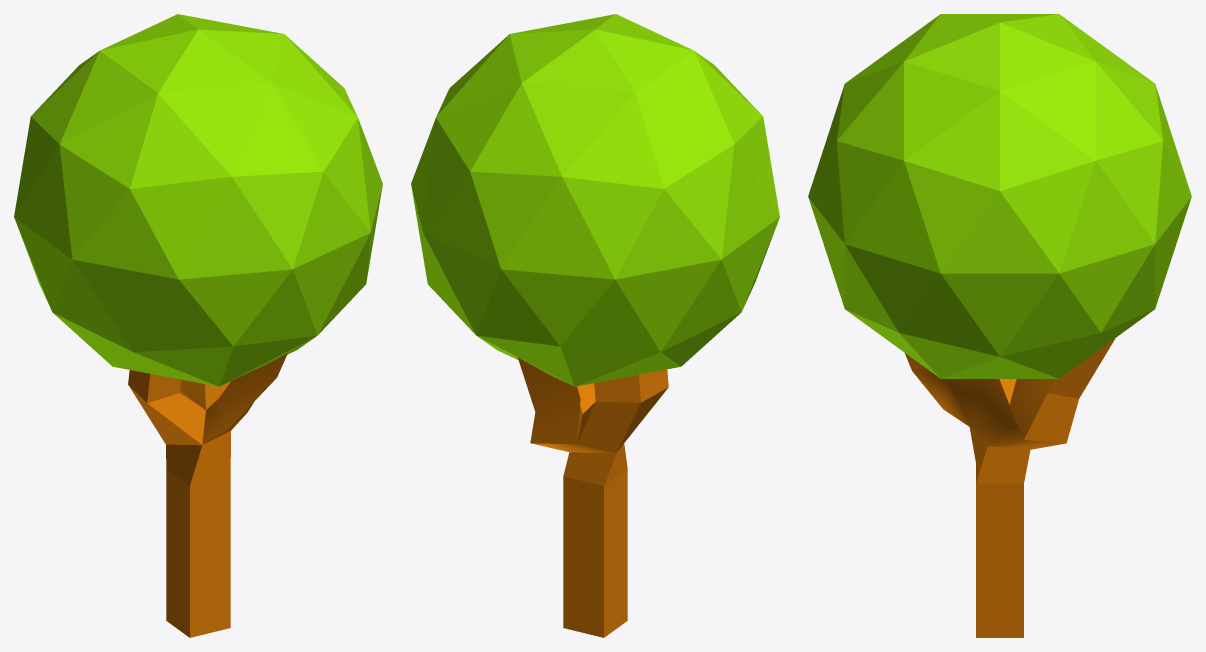
File: tree_lowPoly.fbx
3 renders of one model, left to right at view 1: azimuth 30°, elevation 25°; view 2: azimuth 150°, elevation 25°; view 3: azimuth 270°, elevation 25°, orthographic.
Parts seen in each view (by area): view 1: Icosphere, Cube; view 2: Icosphere, Cube; view 3: Icosphere, Cube.
Boxes of the visible parts, bbox=[...] form: Icosphere: bbox=[14, 14, 382, 386]; Cube: bbox=[128, 353, 287, 637]; Icosphere: bbox=[411, 14, 779, 386]; Cube: bbox=[517, 357, 668, 637]; Icosphere: bbox=[808, 14, 1191, 378]; Cube: bbox=[905, 338, 1115, 637].
Bounding box in the file's own units: 1522 × 2785 × 1600.
